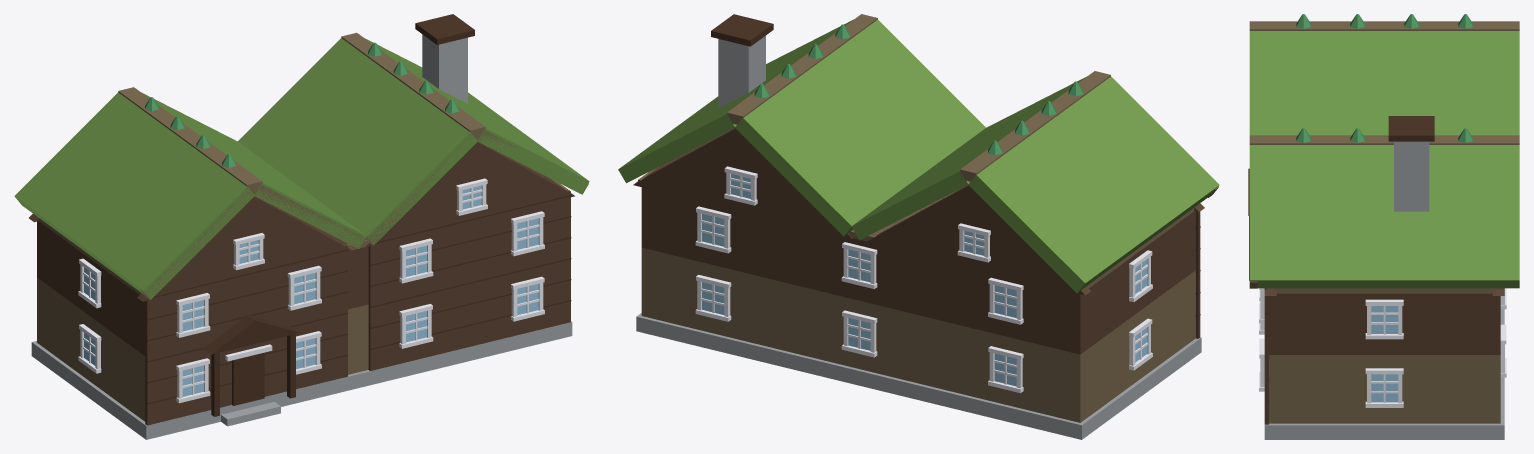
File: house-2x1-2f-third-turf-a.glb
3 renders of one model, left to right at view 1: azimuth 30°, elevation 25°; view 2: azimuth 150°, elevation 25°; view 3: azimuth 270°, elevation 25°, orthographic. The views are drawn at different scales.
Visible parts, largest first — view 1: house-2x1-2f-third-turf-a; view 2: house-2x1-2f-third-turf-a; view 3: house-2x1-2f-third-turf-a.
Boxes of the visible parts, x1,y1,x2,y2 form: house-2x1-2f-third-turf-a: [14, 14, 589, 439]; house-2x1-2f-third-turf-a: [618, 14, 1219, 439]; house-2x1-2f-third-turf-a: [1248, 14, 1519, 439].
Size of the model in its own units: 2 by 1.16 by 1.
1 material, 1 textured.
